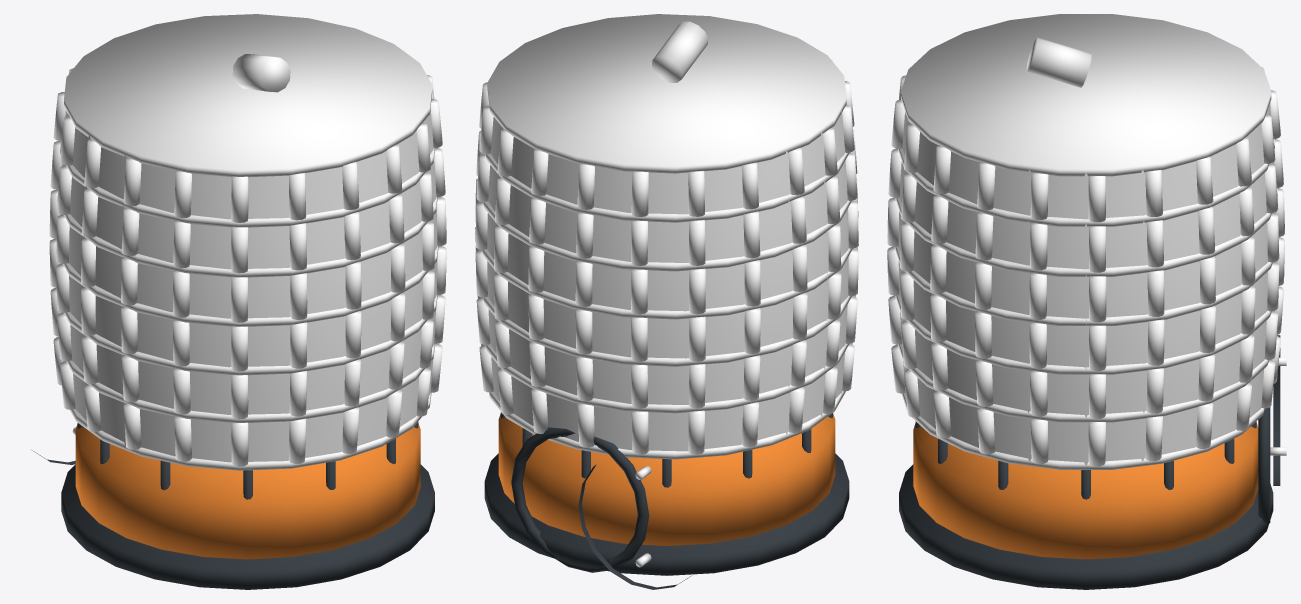
The model's file is boiler.glb.
3 renders of one model, left to right at view 1: azimuth 30°, elevation 25°; view 2: azimuth 150°, elevation 25°; view 3: azimuth 270°, elevation 25°, orthographic. The views are drawn at different scales.
Parts seen in each view (by area): view 1: Boiler; view 2: Boiler; view 3: Boiler.
Boxes of the visible parts, box(x1,y1,x2,y2) form: Boiler: box(32, 14, 446, 589); Boiler: box(475, 14, 858, 589); Boiler: box(887, 14, 1286, 589).
Bounding box in the file's own units: 0.8827 × 1.18 × 0.8883.
